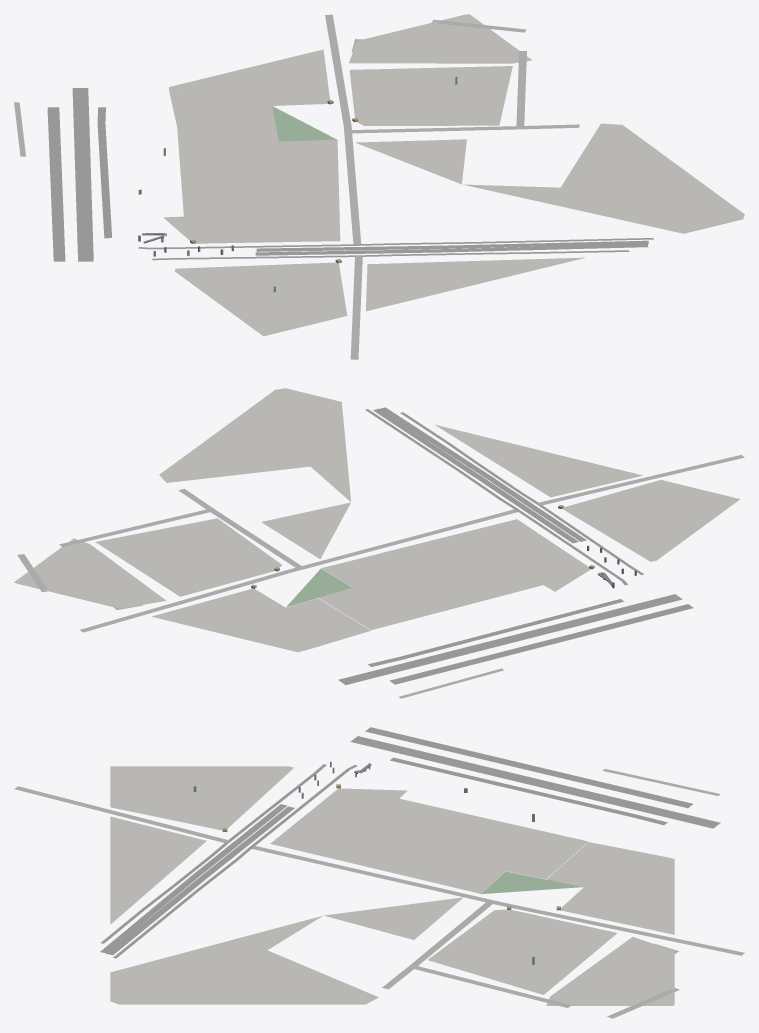
3 views of the same model, one above another, from view 1: azimuth 30°, elevation 25°; view 2: azimuth 150°, elevation 25°; view 3: azimuth 270°, elevation 25° (orthographic). The views are drawn at different scales.
Bounding box in the file's own units: 610 × 8.55 × 648.
